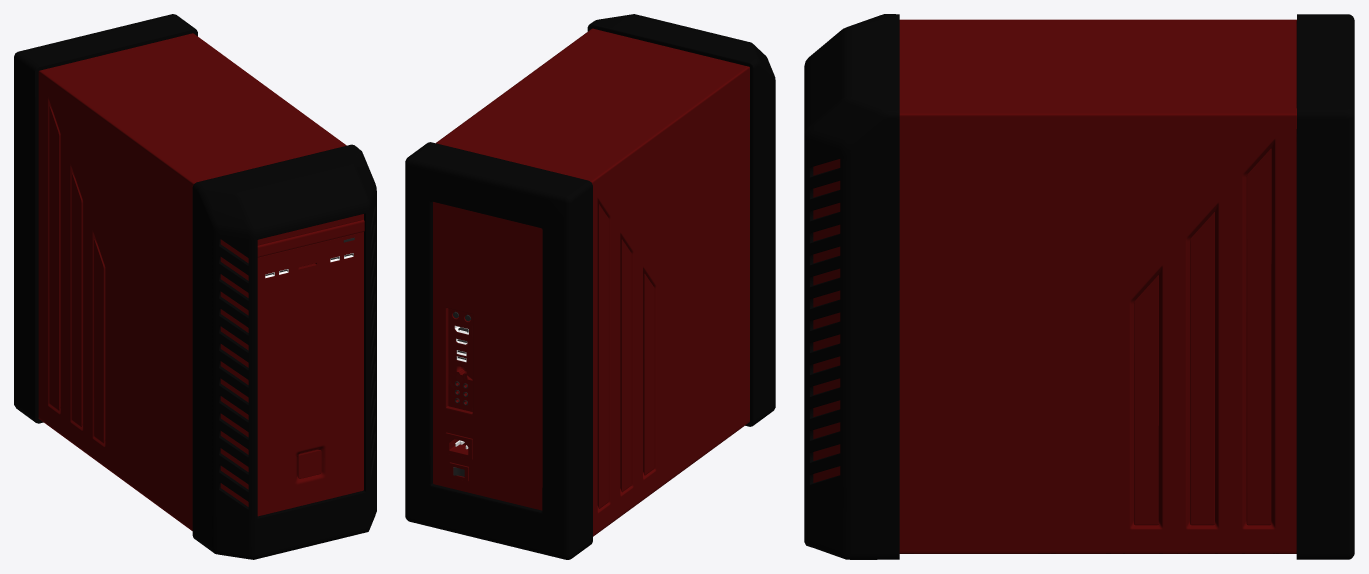
Rendered from gaming_pc.glb.
3 views of the same model, side by side, from view 1: azimuth 30°, elevation 25°; view 2: azimuth 150°, elevation 25°; view 3: azimuth 270°, elevation 25° (orthographic). The views are drawn at different scales.
Visible parts, largest first — view 1: gaming_pc; view 2: gaming_pc; view 3: gaming_pc.
Boxes of the visible parts, x1=… form: gaming_pc: x1=14, y1=14, x2=376, y2=559; gaming_pc: x1=405, y1=14, x2=775, y2=559; gaming_pc: x1=804, y1=14, x2=1354, y2=559.
Size of the model in its own units: 0.2199 by 0.4601 by 0.51.
